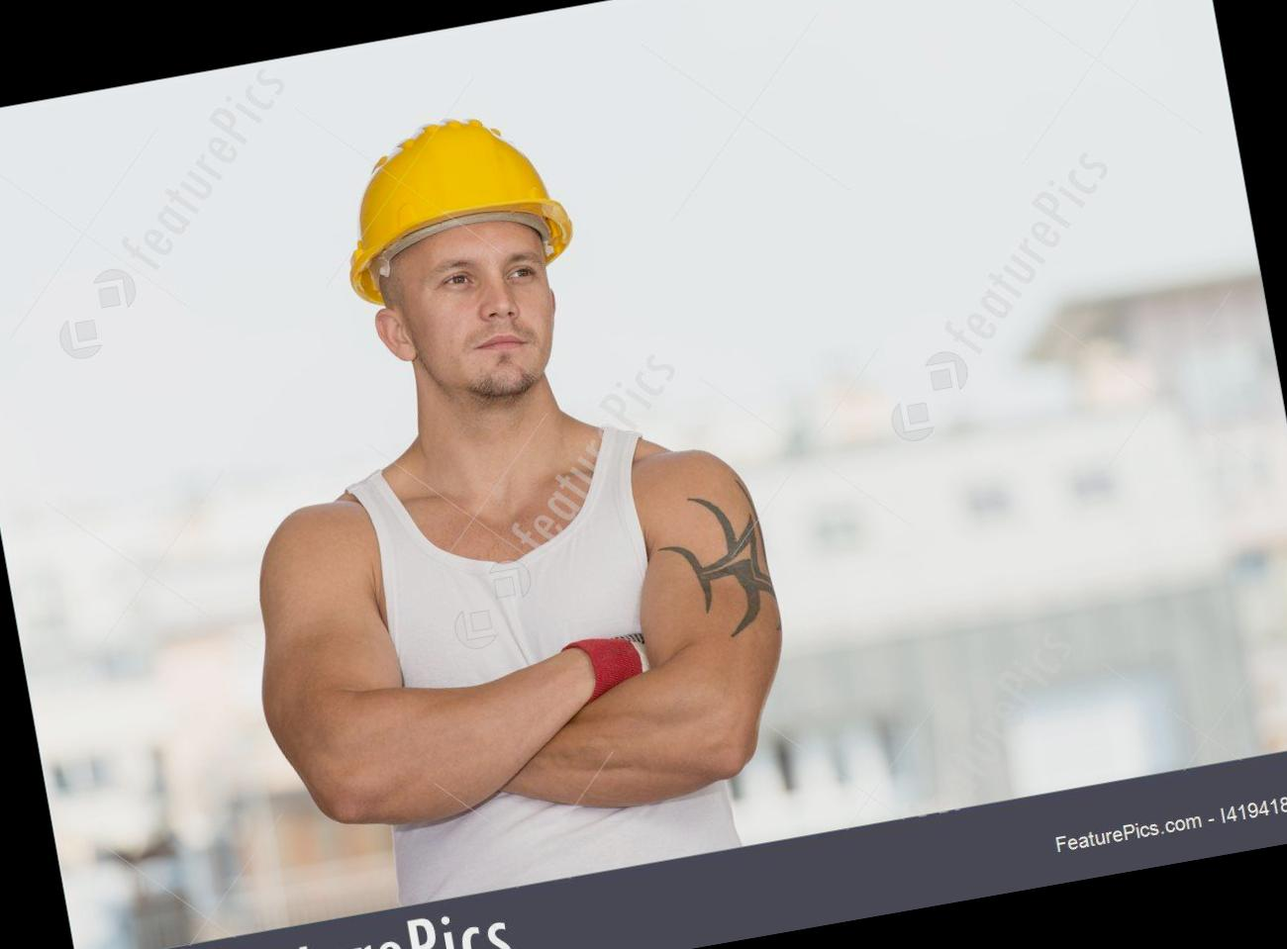helmet: (317, 88, 590, 318)
no_vest: (237, 382, 819, 898)
person: (164, 54, 832, 927)
